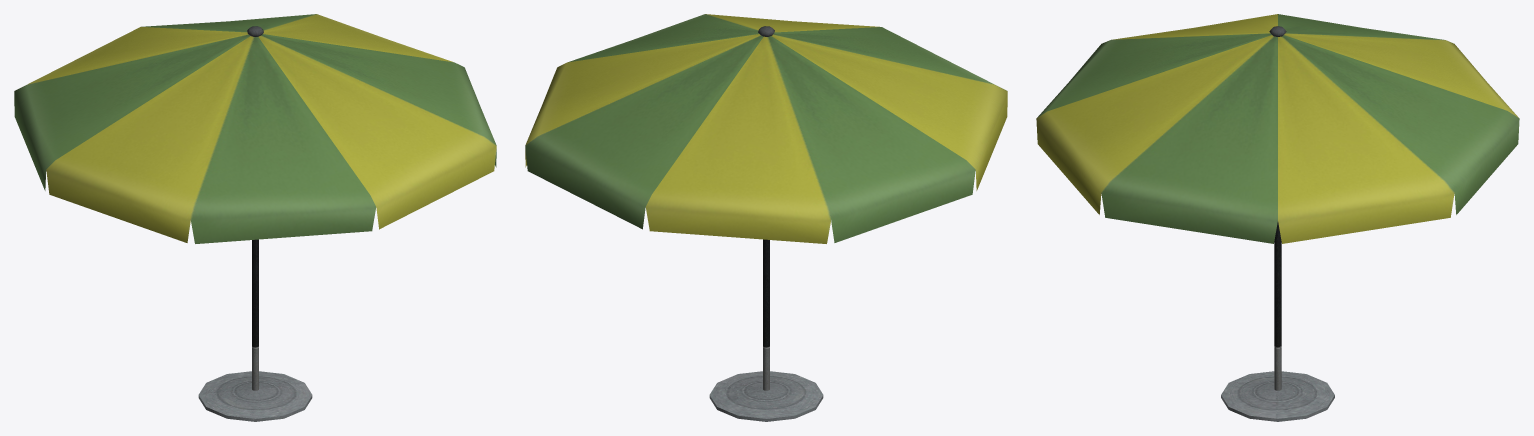
The model's file is Umbrella_04.FBX.
3 views of the same model, side by side, from view 1: azimuth 30°, elevation 25°; view 2: azimuth 150°, elevation 25°; view 3: azimuth 270°, elevation 25° (orthographic).
Visible parts, largest first — view 1: Umbrella_04; view 2: Umbrella_04; view 3: Umbrella_04.
Part boxes in pixels (<box>): Umbrella_04: <box>14,14,496,421</box>; Umbrella_04: <box>525,14,1007,421</box>; Umbrella_04: <box>1036,14,1519,421</box>.
Size of the model in its own units: 3.56 by 3.01 by 3.56.
